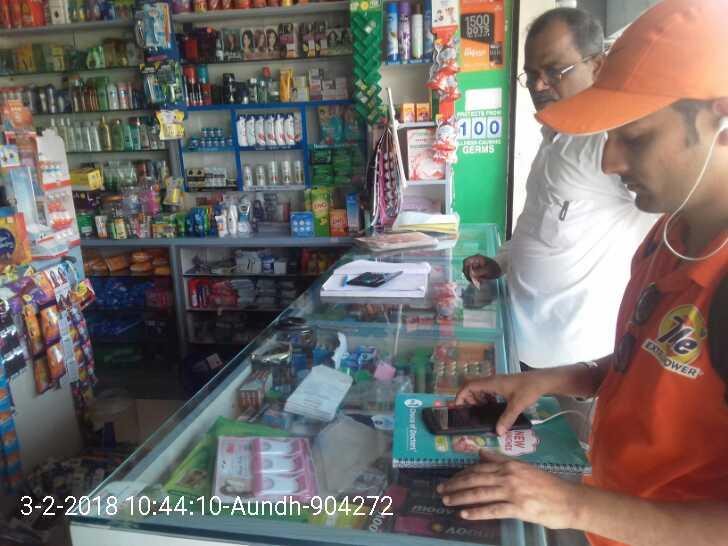vicks: (191, 125, 236, 151)
